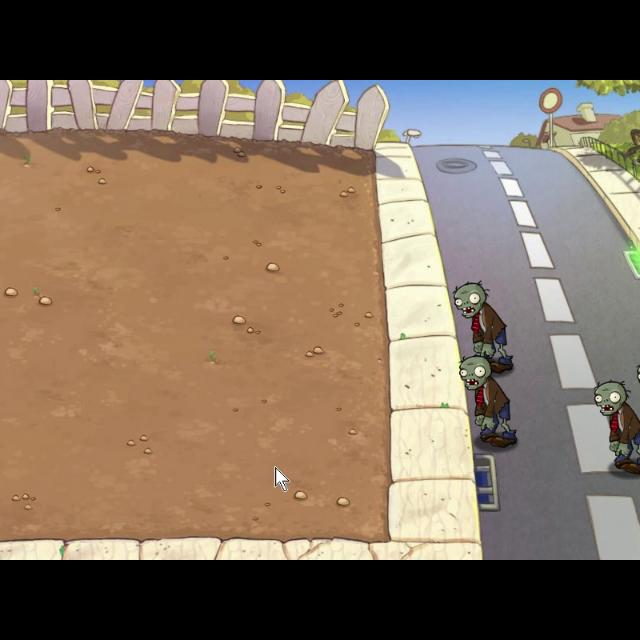Zombie: (448, 275, 522, 377), (453, 354, 519, 450), (590, 379, 640, 477)
